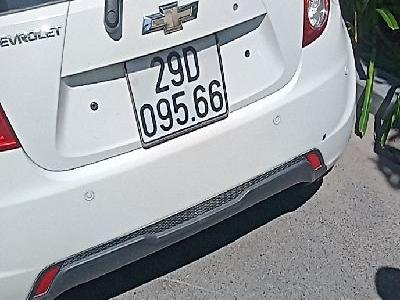lisence: (122, 29, 229, 149)
